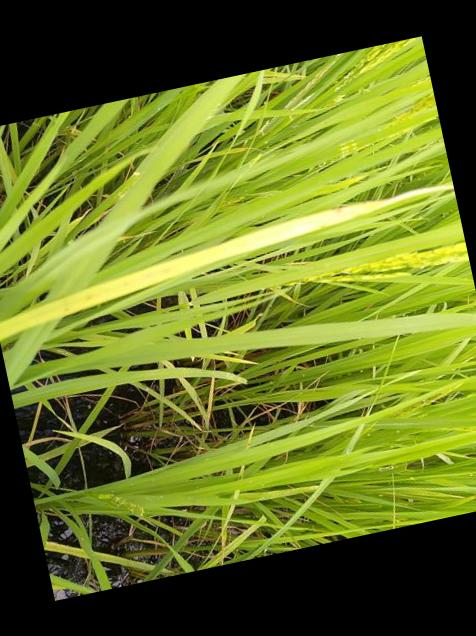Leaf Blight: (0, 187, 437, 345)
